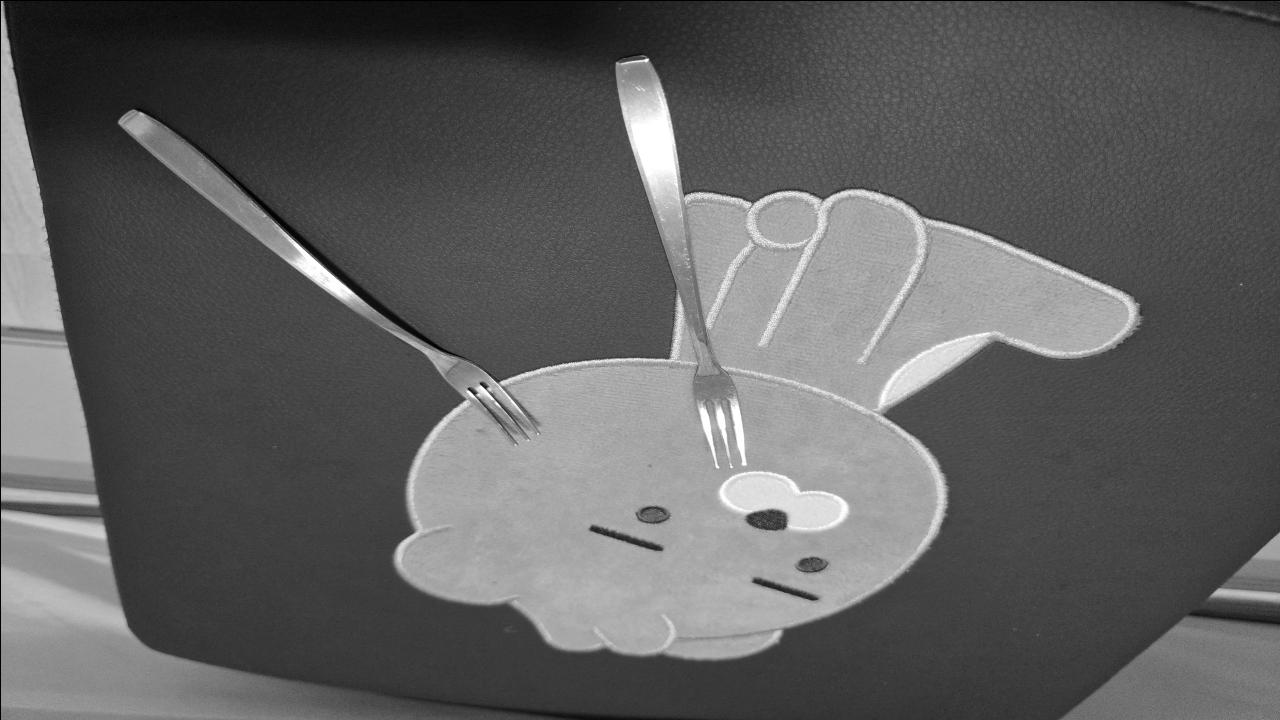fork: (120, 110, 540, 444), (617, 55, 744, 464)
